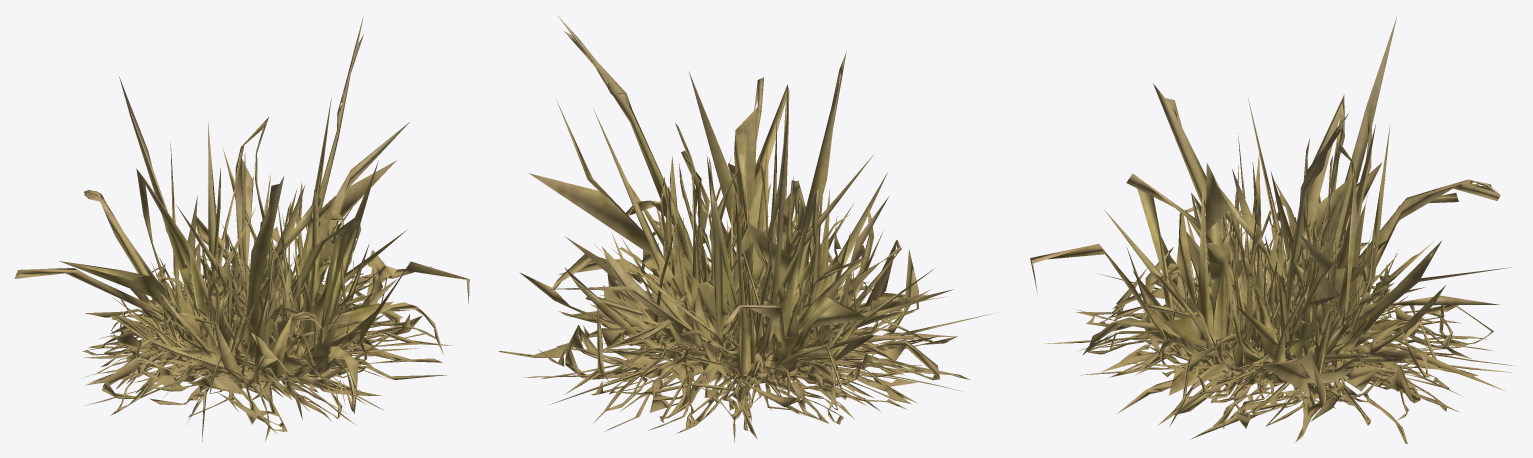
Rendered from grass_dry.glb.
The picture shows the model from 3 angles, left to right: view 1: azimuth 30°, elevation 25°; view 2: azimuth 150°, elevation 25°; view 3: azimuth 270°, elevation 25°; orthographic projection. The views are drawn at different scales.
Parts seen in each view (by area): view 1: frame; view 2: frame; view 3: frame.
Boxes of the visible parts, <box> form: frame: <box>14,16,469,441</box>; frame: <box>498,15,998,442</box>; frame: <box>1030,16,1514,443</box>.
Size of the model in its own units: 0.7148 by 0.5301 by 0.7227.
Materials: 1 (1 with a texture image).
